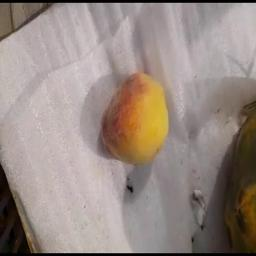Peach Semifresh: (96, 65, 177, 168)
